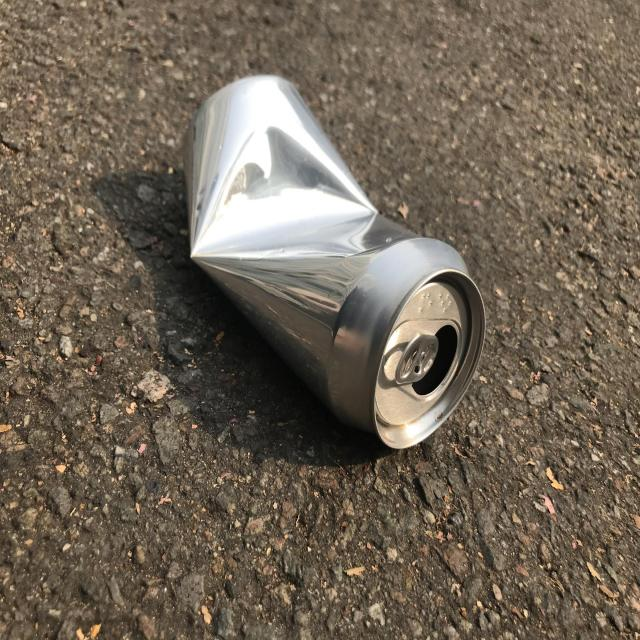can: (184, 74, 486, 449)
